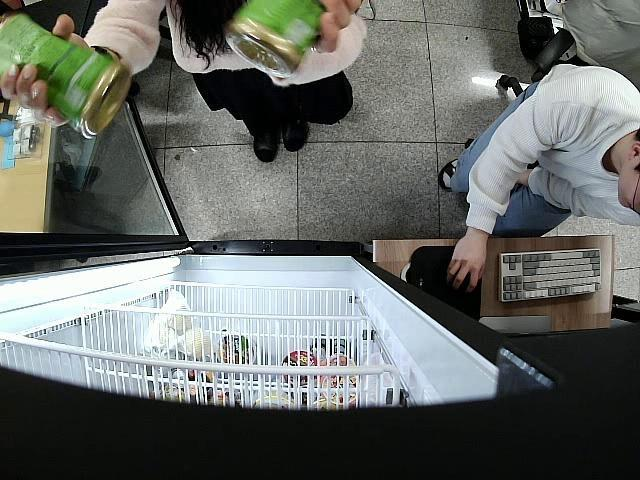19_17cha: (0, 12, 131, 137), (224, 0, 328, 79)
